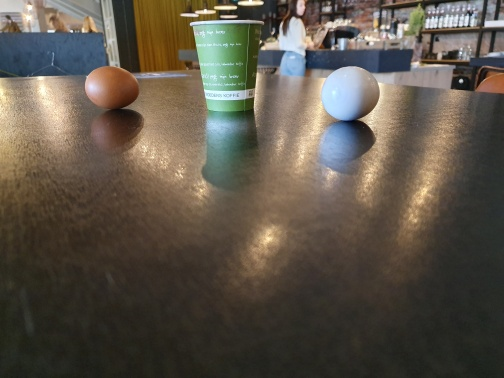egg: (321, 65, 380, 123), (84, 66, 141, 110)
